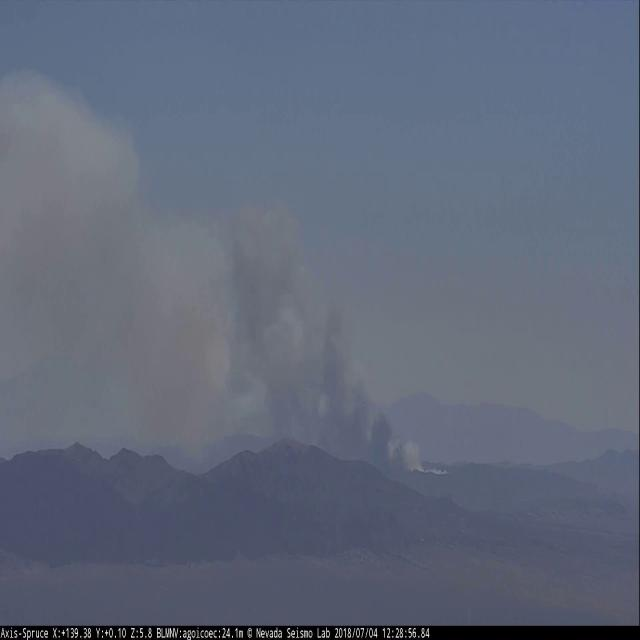smoke: (0, 60, 460, 483)
